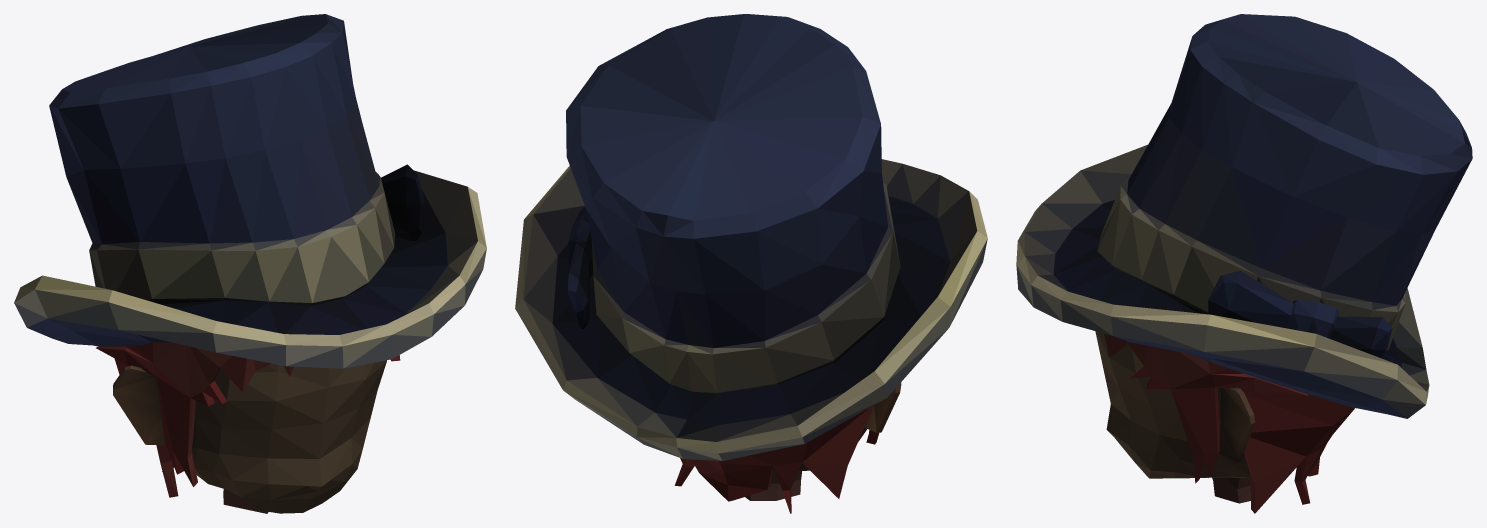
The model's file is helm_darkskin_spike_red_tophat.fbx.
The picture shows the model from 3 angles, left to right: view 1: azimuth 30°, elevation 25°; view 2: azimuth 150°, elevation 25°; view 3: azimuth 270°, elevation 25°; orthographic projection.
Parts seen in each view (by area): view 1: helm_darkskin_spike_red_tophat; view 2: helm_darkskin_spike_red_tophat; view 3: helm_darkskin_spike_red_tophat.
Part boxes in pixels (x1=…): helm_darkskin_spike_red_tophat: x1=14, y1=14, x2=486, y2=513; helm_darkskin_spike_red_tophat: x1=515, y1=14, x2=987, y2=513; helm_darkskin_spike_red_tophat: x1=1016, y1=14, x2=1472, y2=513.
Size of the model in its own units: 1.67 by 1.82 by 1.64.
